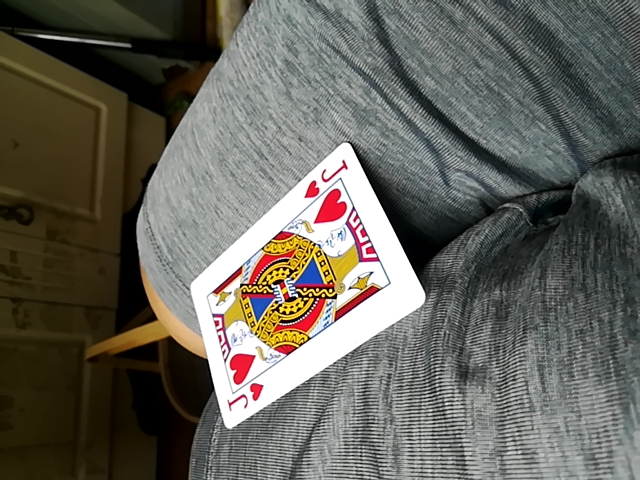hx j: (186, 141, 425, 427)
